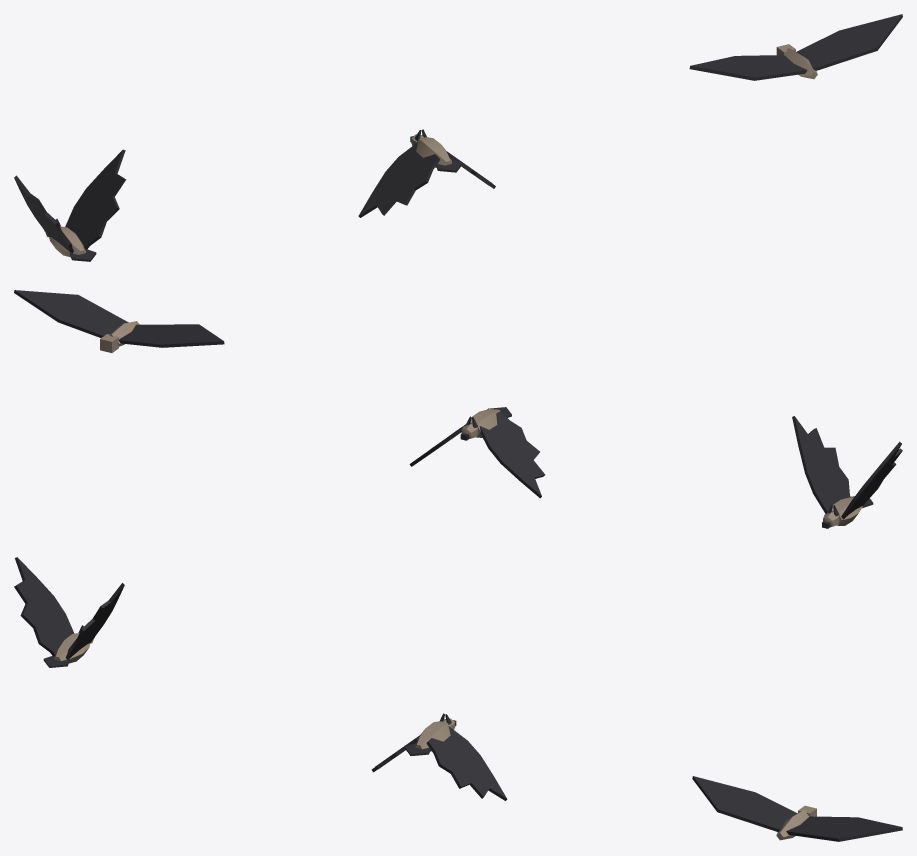
The model's file is bat.glb.
3 views of the same model, one above another, from view 1: azimuth 30°, elevation 25°; view 2: azimuth 150°, elevation 25°; view 3: azimuth 330°, elevation 25° (orthographic).
Parts seen in each view (by area): view 1: far, up, down; view 2: far, up, down; view 3: far, up, down.
Boxes of the visible parts, left/top/right/bottom form: far: left=689, top=14, right=902, bottom=80; up: left=14, top=149, right=126, bottom=261; down: left=358, top=129, right=495, bottom=217; far: left=14, top=290, right=224, bottom=352; up: left=792, top=416, right=902, bottom=528; down: left=409, top=407, right=545, bottom=498; far: left=692, top=776, right=902, bottom=841; up: left=14, top=557, right=124, bottom=667; down: left=371, top=713, right=507, bottom=800.
Bounding box in the file's own units: 1.47 × 0.214 × 0.1224.
